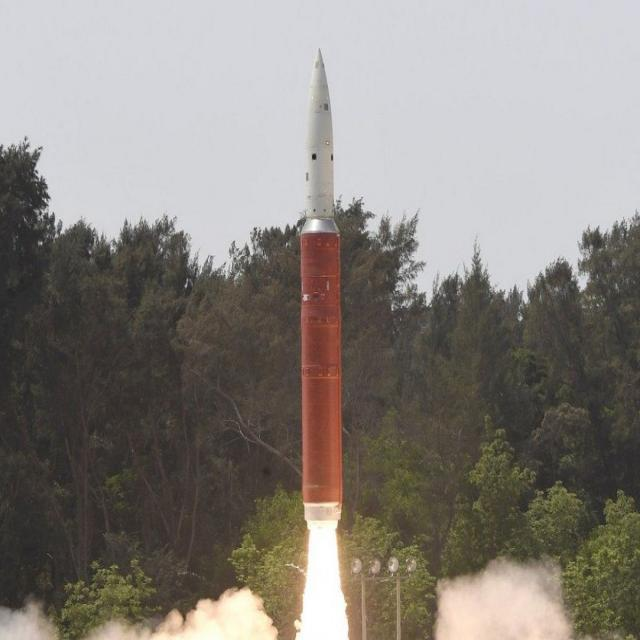missile: (288, 36, 357, 525)
